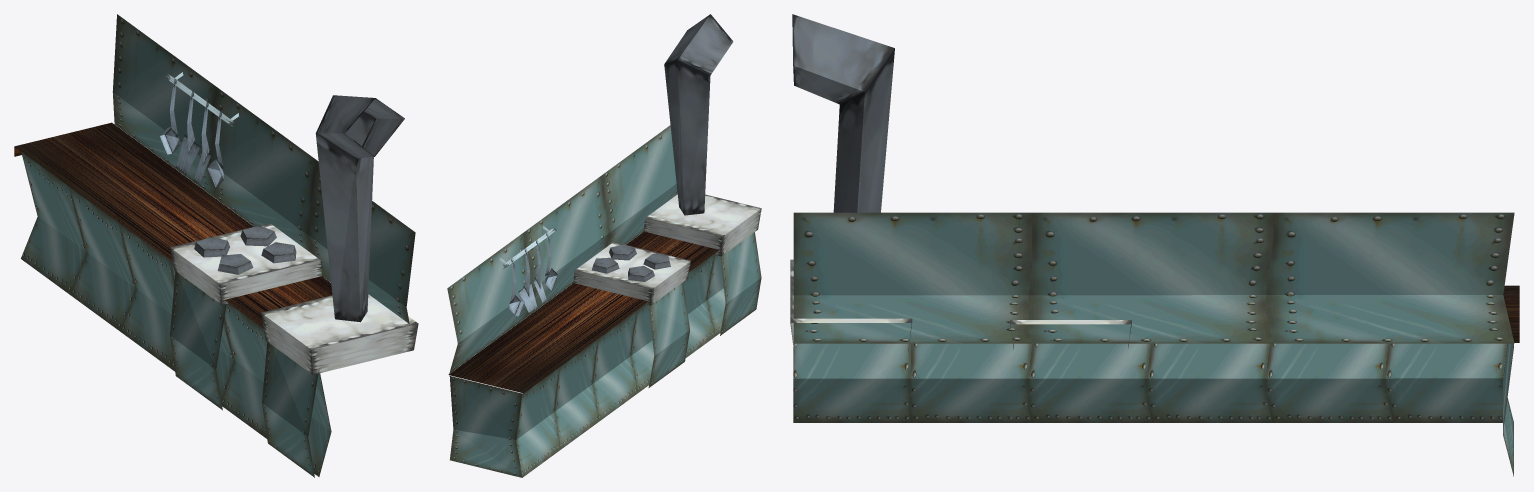
The model's file is KüchenHerd_2261.glb.
The picture shows the model from 3 angles, left to right: view 1: azimuth 30°, elevation 25°; view 2: azimuth 150°, elevation 25°; view 3: azimuth 270°, elevation 25°; orthographic projection. The views are drawn at different scales.
Parts seen in each view (by area): view 1: pPlaneShape112, pPlaneShape98, pPlaneShape100, pCylinderShape189, pPlaneShape111, pPlaneShape110, pPlaneShape107, pPlaneShape102, pPlaneShape106, pPlaneShape104, pPlaneShape108, pPlaneShape103 (+6 smaller); view 2: pPlaneShape112, pPlaneShape98, pPlaneShape100, pCylinderShape189, pPlaneShape99, pPlaneShape111, pPlaneShape110, pPlaneShape107, pPlaneShape102, pPlaneShape109, pPlaneShape105, pPlaneShape108 (+5 smaller); view 3: pPlaneShape112, pPlaneShape98, pCylinderShape189, pPlaneShape99, pPlaneShape107.
Part boxes in pixels (x1,y1,x2,y2): pPlaneShape112: (112,14,415,323); pPlaneShape98: (21,151,331,476); pPlaneShape100: (14,122,332,328); pCylinderShape189: (315,95,404,322); pPlaneShape111: (170,271,226,410); pPlaneShape110: (262,342,318,477); pPlaneShape107: (261,294,418,349); pPlaneShape102: (170,223,319,284); pPlaneShape106: (311,323,418,374); pPlaneShape104: (220,260,322,305); pPlaneShape108: (261,313,312,374); pPlaneShape103: (170,247,221,304); pPlaneShape112: (447,125,677,373); pPlaneShape98: (516,253,725,477); pPlaneShape100: (448,231,718,393); pCylinderShape189: (664,14,733,215); pPlaneShape99: (449,376,522,477); pPlaneShape111: (648,282,689,387); pPlaneShape110: (720,232,761,335); pPlaneShape107: (646,194,761,236); pPlaneShape102: (575,242,690,289); pPlaneShape109: (643,218,722,256); pPlaneShape105: (572,271,651,305); pPlaneShape108: (721,208,761,255); pPlaneShape112: (793,212,1514,343); pPlaneShape98: (793,343,1507,422); pCylinderShape189: (792,14,894,212); pPlaneShape99: (1503,343,1513,476); pPlaneShape107: (790,259,912,322).
Bounding box in the file's own units: 0.1195 × 0.3827 × 0.5725.
Materials: 31 (31 with a texture image).
